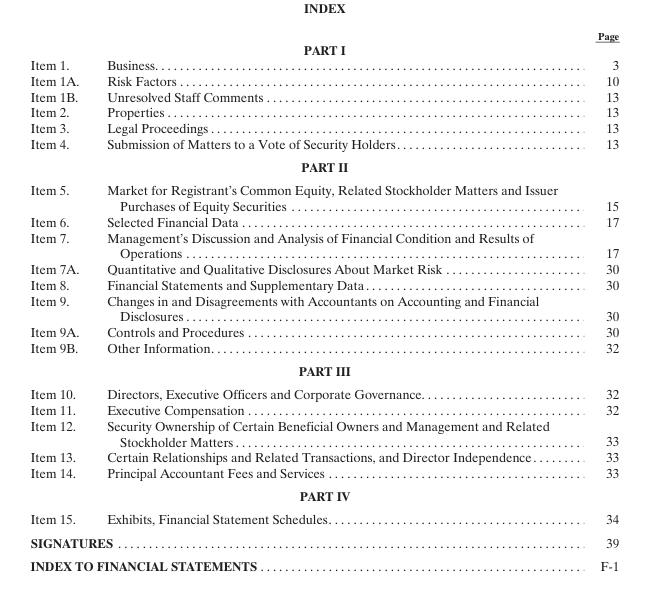table: (29, 28, 618, 573)
table column: (92, 28, 577, 573), (29, 28, 92, 573), (577, 28, 618, 573)
table column header: (29, 28, 618, 41)
table projected row header: (29, 155, 618, 178), (29, 358, 618, 381), (29, 484, 618, 507), (29, 41, 618, 56)
table row: (29, 178, 618, 213), (29, 229, 618, 260), (29, 292, 618, 323), (29, 417, 618, 448), (29, 530, 618, 554), (29, 155, 618, 178), (29, 358, 618, 381), (29, 484, 618, 507), (29, 507, 618, 530), (29, 135, 618, 155), (29, 381, 618, 401), (29, 464, 618, 484), (29, 339, 618, 358), (29, 554, 618, 573), (29, 56, 618, 72), (29, 72, 618, 88), (29, 103, 618, 119), (29, 119, 618, 135), (29, 213, 618, 229), (29, 260, 618, 276), (29, 276, 618, 292), (29, 323, 618, 339), (29, 401, 618, 417), (29, 448, 618, 464), (29, 41, 618, 56), (29, 88, 618, 103), (29, 28, 618, 41)
table spanning cell: (29, 530, 577, 554), (29, 554, 577, 573)
